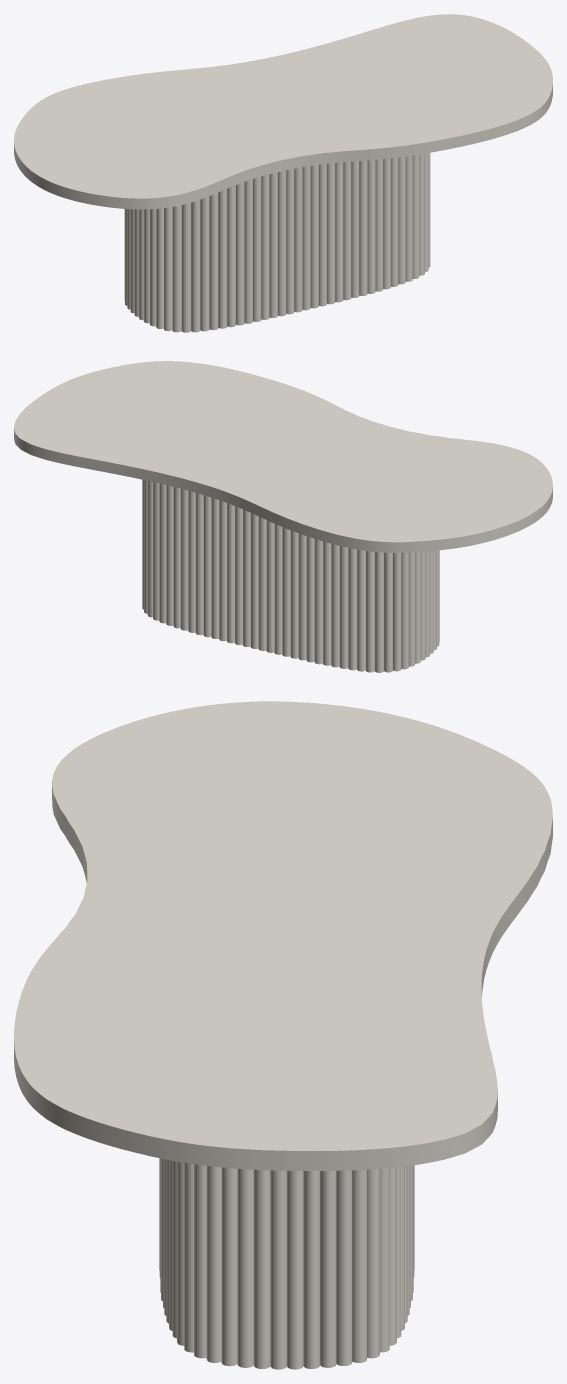
File: pale_wave_standard_newtable.glb
3 views of the same model, one above another, from view 1: azimuth 30°, elevation 25°; view 2: azimuth 150°, elevation 25°; view 3: azimuth 270°, elevation 25° (orthographic). The views are drawn at different scales.
Visible parts, largest first — view 1: standard_wave, newtable; view 2: standard_wave, newtable; view 3: standard_wave, newtable.
Boxes of the visible parts, <box> form: standard_wave: <box>14,14,552,209</box>; newtable: <box>124,153,430,332</box>; standard_wave: <box>14,361,552,552</box>; newtable: <box>142,479,439,672</box>; standard_wave: <box>14,701,552,1170</box>; newtable: <box>159,1158,414,1369</box>.
Size of the model in its own units: 7.5 by 2.5 by 3.8.
Materials: 2 (2 with a texture image).
